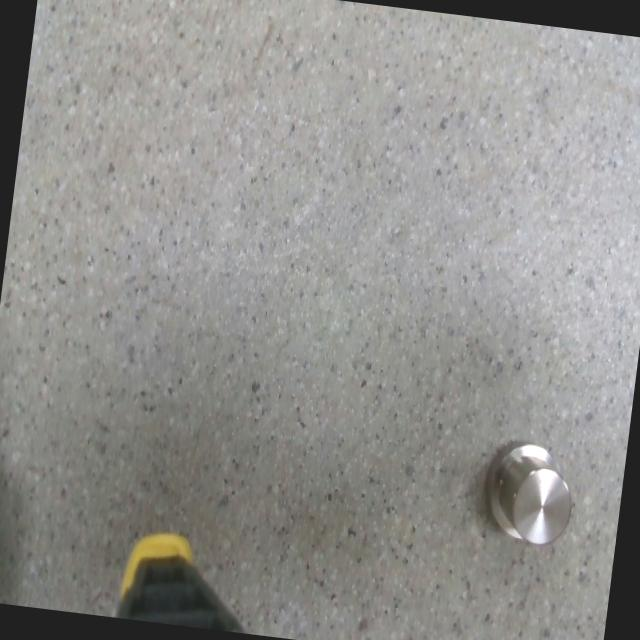sensor: (478, 435, 578, 547)
